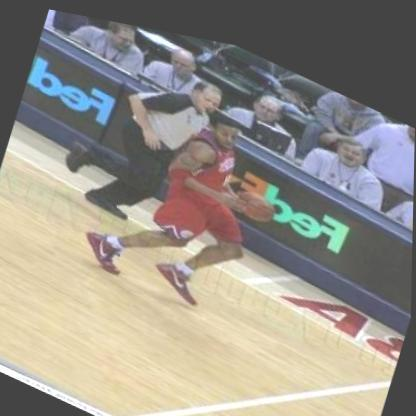basketball: (230, 167, 285, 223)
